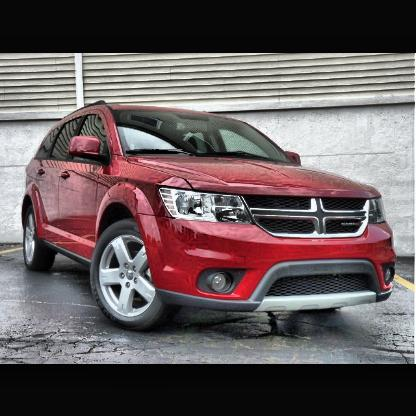Dodge Journey SUV 2012: (22, 101, 399, 328)
